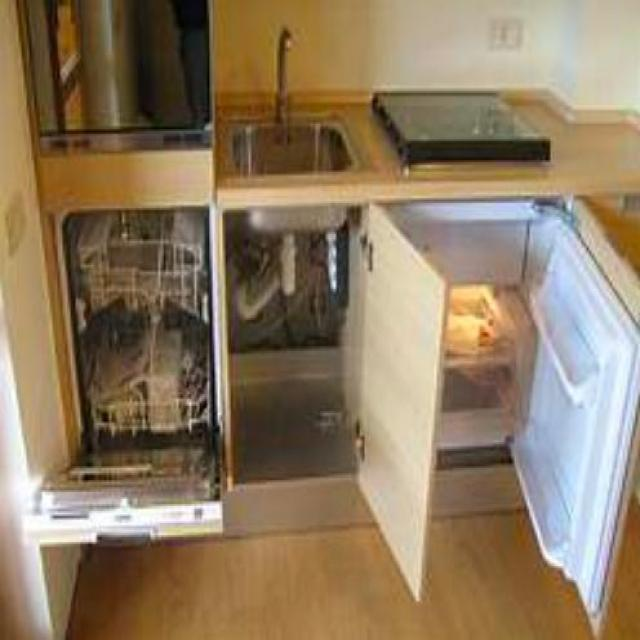dishwasher: (25, 160, 223, 538)
